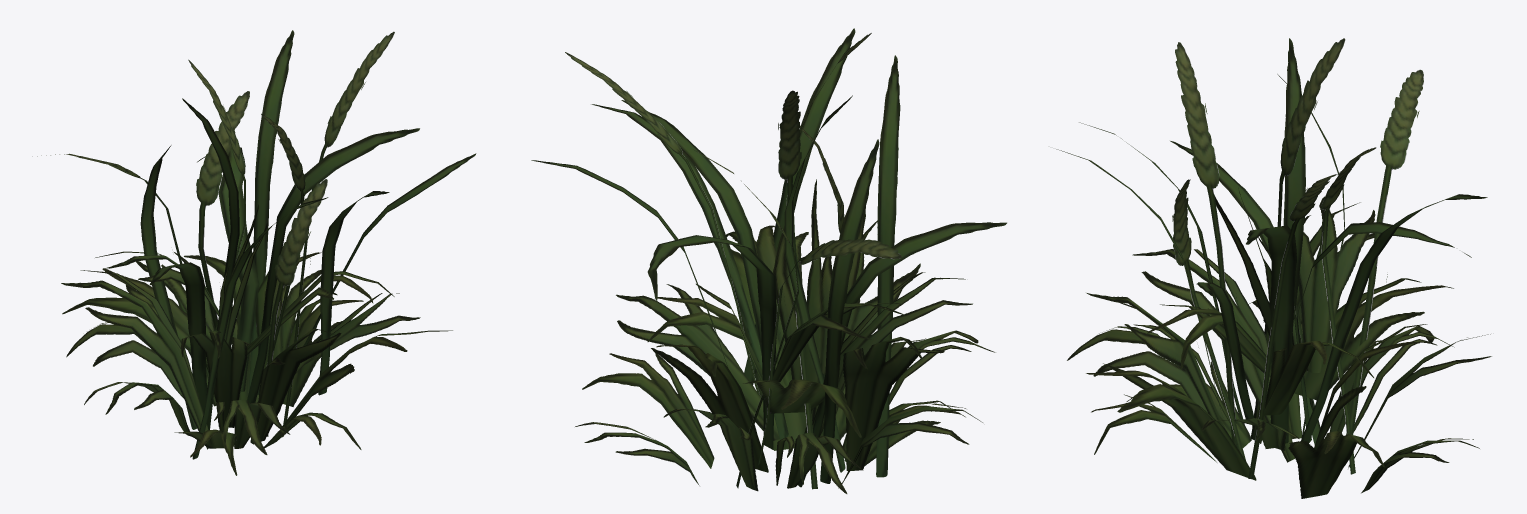
Rendered from cao1.FBX.
3 views of the same model, side by side, from view 1: azimuth 30°, elevation 25°; view 2: azimuth 150°, elevation 25°; view 3: azimuth 270°, elevation 25° (orthographic). The views are drawn at different scales.
Parts seen in each view (by area): view 1: Mesh 1; view 2: Mesh 1; view 3: Mesh 1.
Part boxes in pixels (x1,y1,x2,y2): Mesh 1: (32,30,476,475); Mesh 1: (531,28,1006,493); Mesh 1: (1056,38,1491,498).
Bounding box in the file's own units: 1.82 × 1.73 × 1.69.
